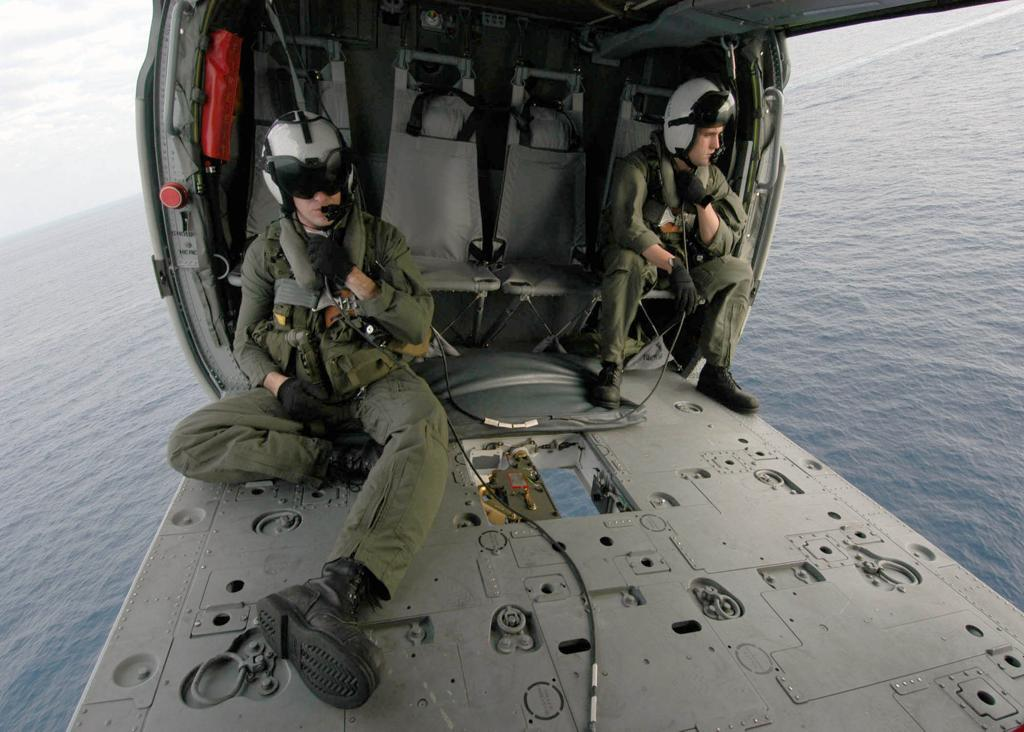face: (274, 158, 356, 232), (672, 94, 732, 166)
